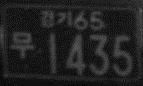1: (40, 30, 63, 73)
3: (88, 32, 109, 76)
4: (65, 34, 87, 75)
5: (112, 34, 134, 76), (91, 11, 103, 31)
6: (74, 8, 89, 30)
경기_O: (38, 9, 73, 29)
무: (11, 31, 35, 57)
